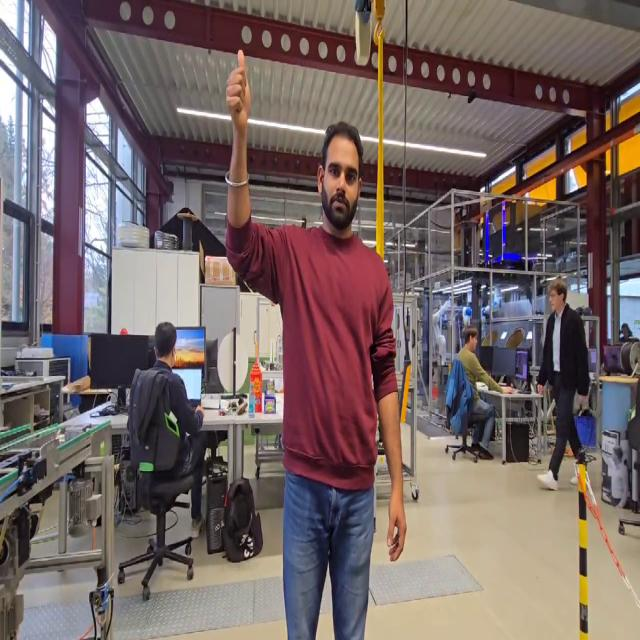thumbs_up: (222, 44, 255, 137)
